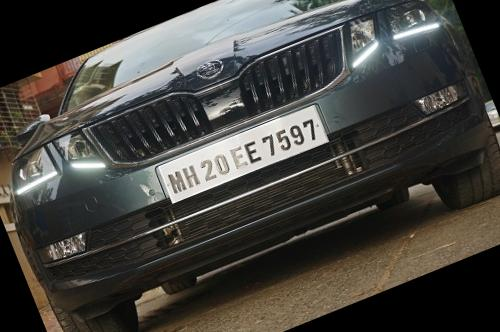plate: (131, 80, 353, 236)
